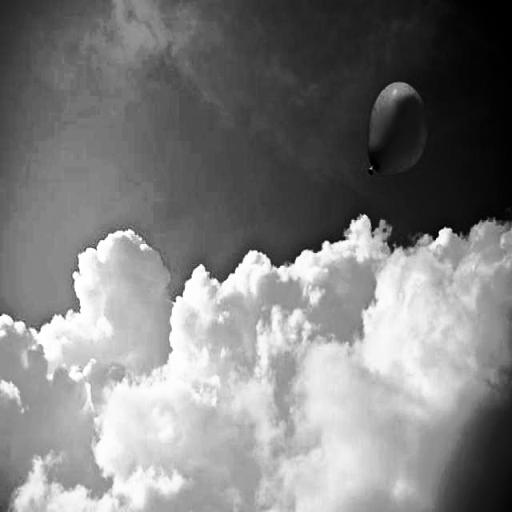balloon: (364, 76, 430, 186)
